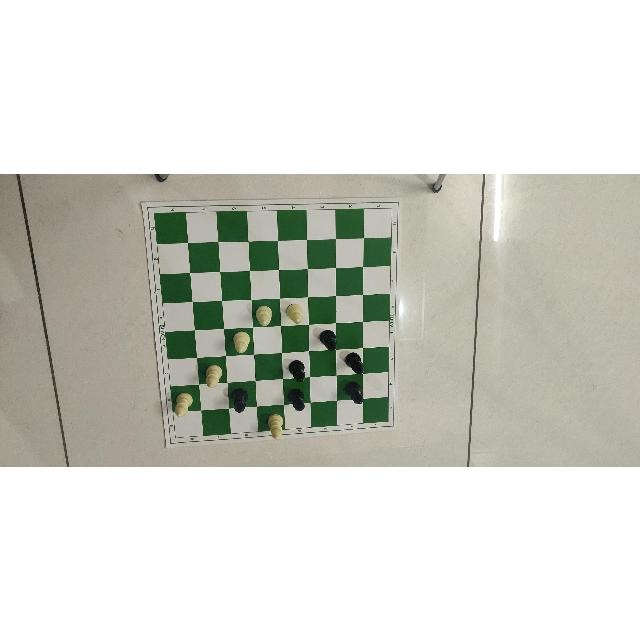black-bishop: (345, 352, 365, 376), (344, 380, 364, 404), (232, 388, 249, 414), (288, 388, 307, 411), (319, 328, 337, 352), (288, 358, 305, 382)
white-bishop: (173, 390, 192, 417), (267, 412, 285, 439), (204, 363, 223, 388), (286, 303, 304, 325), (233, 331, 251, 353), (256, 305, 272, 327)
